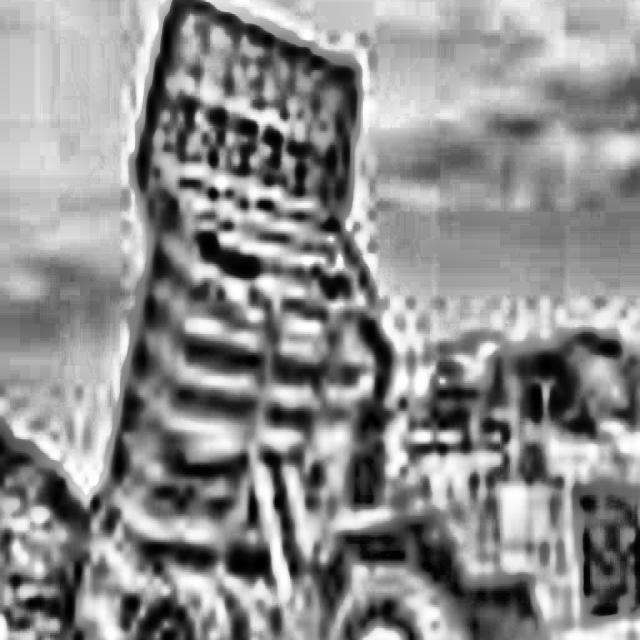dump_truck: (87, 0, 640, 640)
